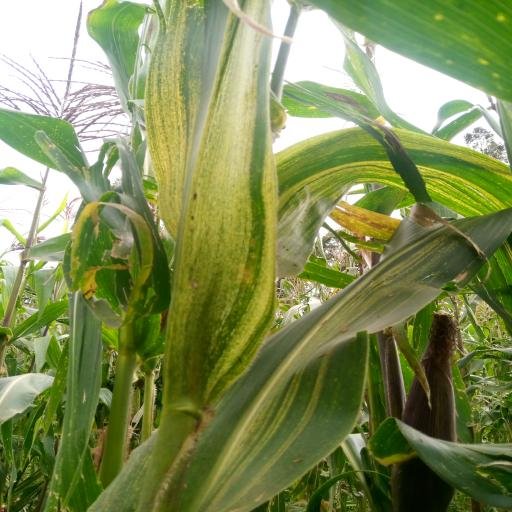Corn_Streak: (160, 216, 512, 509), (148, 0, 290, 410)
